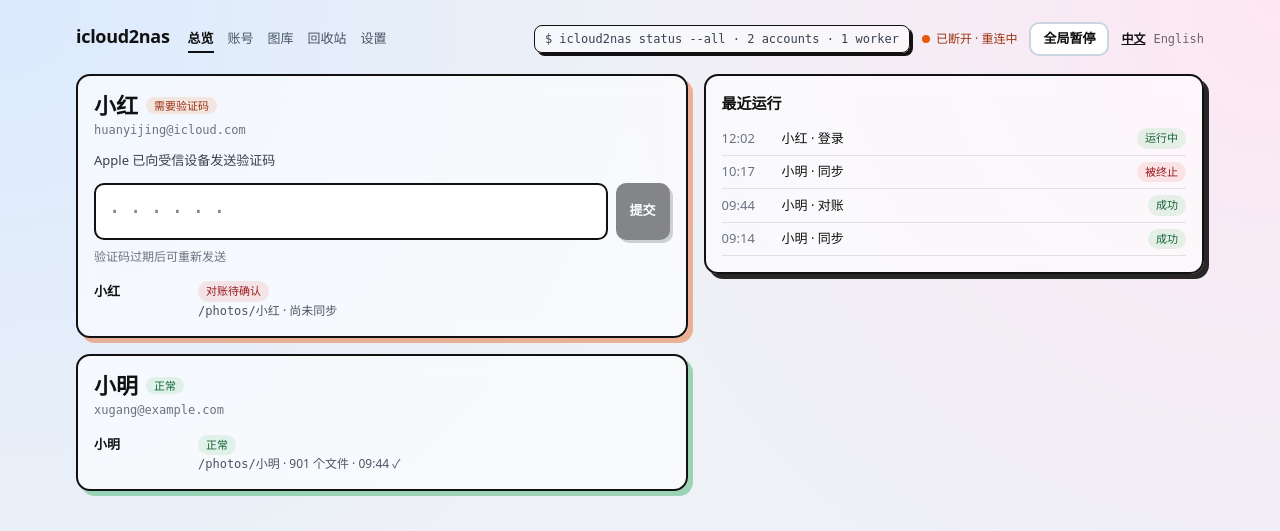
Test: a 401 from any request drops back to the login card
Expected: the text "$ icloud2nas status --all · 2 accounts · 1 worker" is shown, [534,25,910,53]
Click the button "全局暂停": (1069, 39) [1029,22,1109,56]
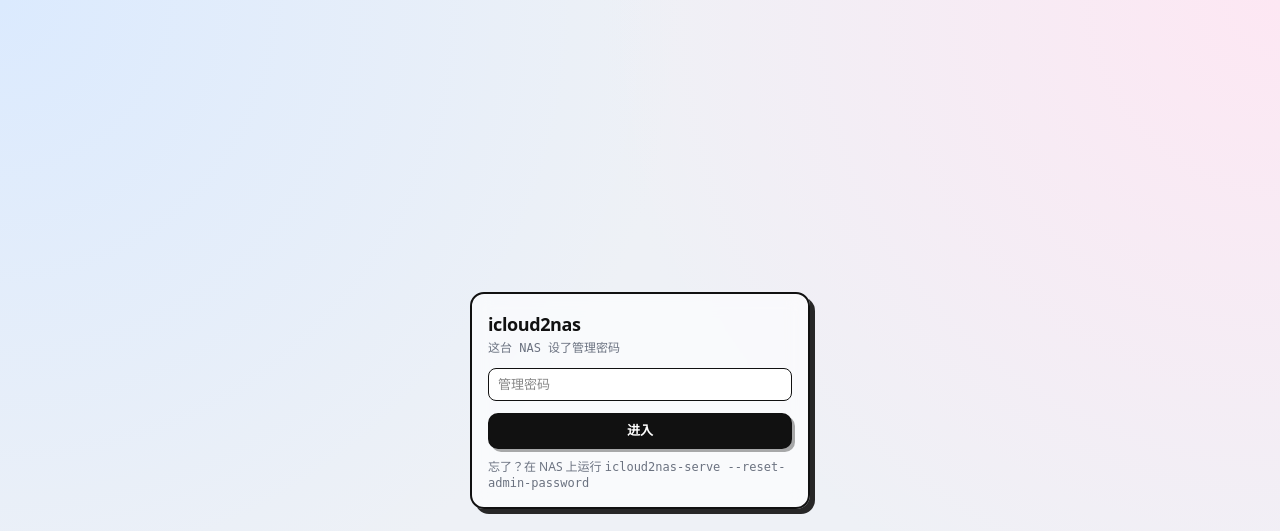
Expected: the text "这台 NAS 设了管理密码" is shown, [488,340,620,354]
